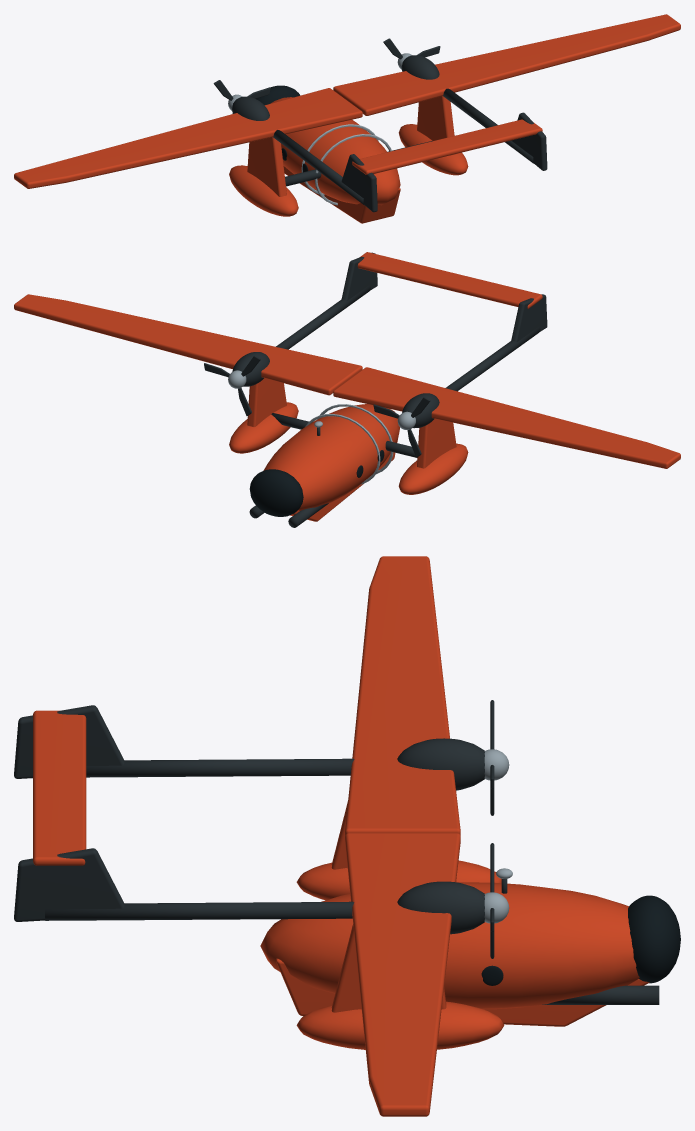
File: ash-wing.glb
3 renders of one model, top to bottom at view 1: azimuth 30°, elevation 25°; view 2: azimuth 150°, elevation 25°; view 3: azimuth 270°, elevation 25°, orthographic. The views are drawn at different scales.
Visible parts, largest first — view 1: AshWing_Hull, AshWing_Rotor_Right, AshWing_Rotor_Left; view 2: AshWing_Hull, AshWing_Rotor_Left, AshWing_Rotor_Right; view 3: AshWing_Hull, AshWing_Rotor_Left, AshWing_Rotor_Right.
Part boxes in pixels (x1,y1,x2,y2): AshWing_Hull: (14, 14, 680, 223); AshWing_Rotor_Right: (383, 38, 440, 69); AshWing_Rotor_Left: (213, 80, 270, 113); AshWing_Hull: (14, 252, 680, 527); AshWing_Rotor_Left: (373, 397, 430, 457); AshWing_Rotor_Right: (204, 355, 260, 416); AshWing_Hull: (14, 556, 680, 1116); AshWing_Rotor_Left: (484, 700, 509, 815); AshWing_Rotor_Right: (484, 843, 509, 958).
Size of the model in its own units: 54 by 10.76 by 27.59.
